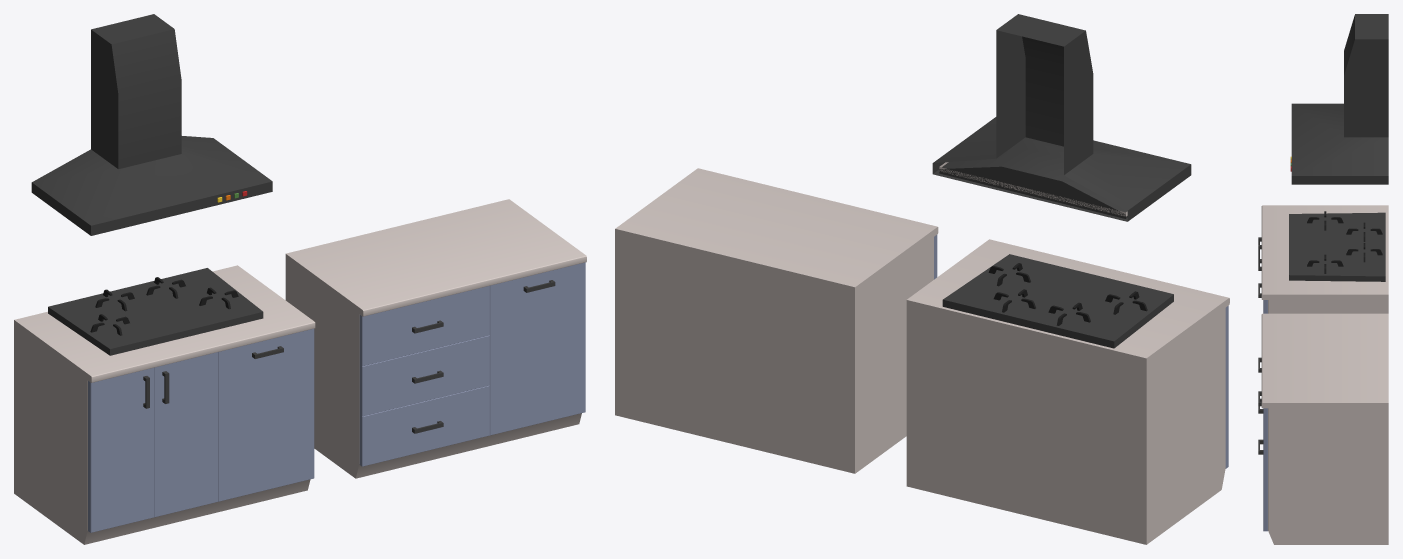
File: Kitchen set.fbx
3 views of the same model, side by side, from view 1: azimuth 30°, elevation 25°; view 2: azimuth 150°, elevation 25°; view 3: azimuth 270°, elevation 25° (orthographic). The views are drawn at different scales.
Parts seen in each view (by area): view 1: Kitchen set; view 2: Kitchen set; view 3: Kitchen set.
Boxes of the visible parts, left/top/right/bottom form: Kitchen set: left=14, top=14, right=586, bottom=544; Kitchen set: left=615, top=14, right=1229, bottom=544; Kitchen set: left=1258, top=14, right=1388, bottom=544.
Bounding box in the file's own units: 361 × 311 × 101.
